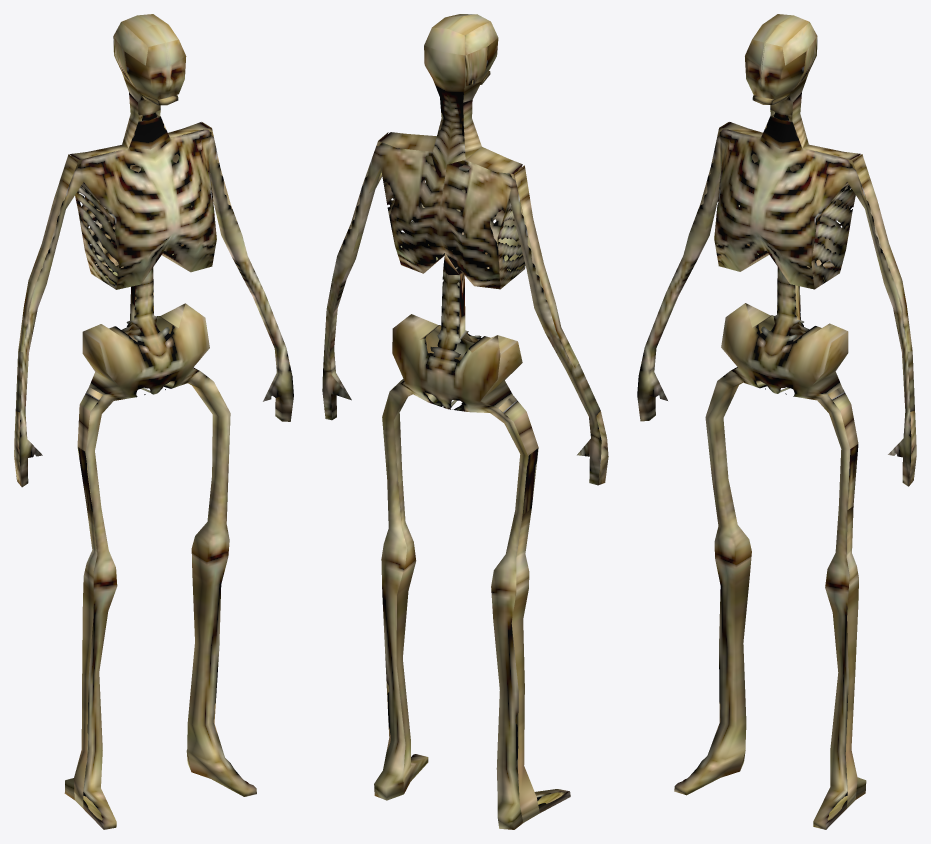
File: skeleton.fbx
3 renders of one model, left to right at view 1: azimuth 30°, elevation 25°; view 2: azimuth 150°, elevation 25°; view 3: azimuth 330°, elevation 25°, orthographic. The views are drawn at different scales.
Parts seen in each view (by area): view 1: Plane; view 2: Plane; view 3: Plane.
Boxes of the visible parts, x1,y1,x2,y2 form: Plane: [14, 14, 293, 829]; Plane: [322, 14, 608, 829]; Plane: [637, 14, 916, 829].
Bounding box in the file's own units: 69.46 × 186 × 23.95.
1 material, 1 textured.
